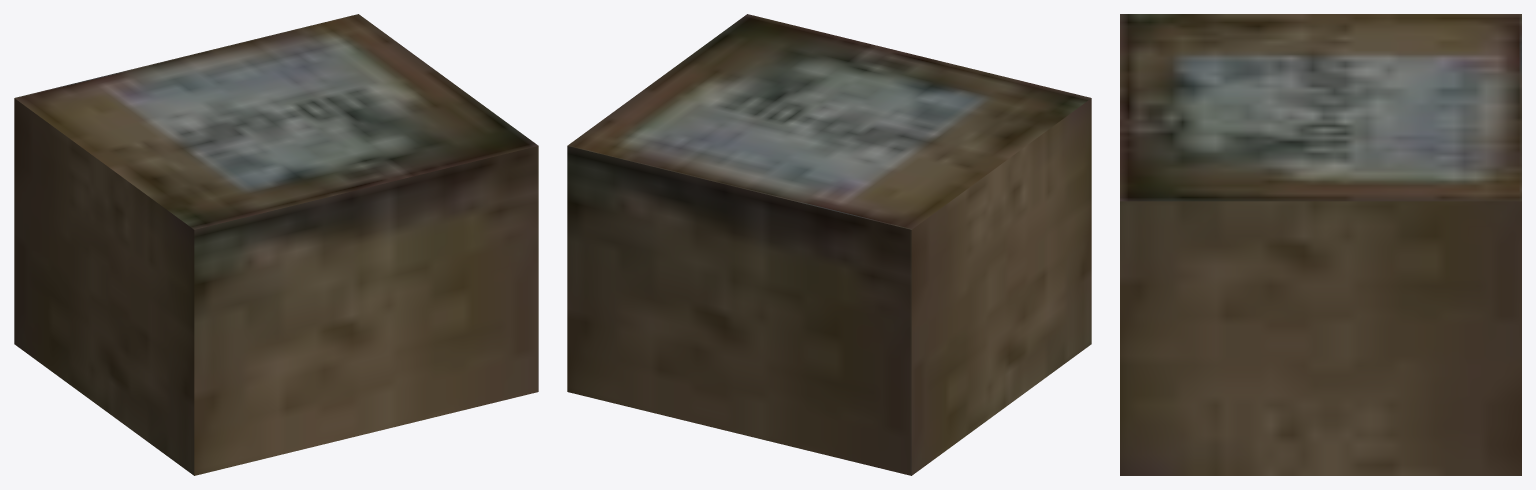
Rendered from cardboard_box004a.glb.
The picture shows the model from 3 angles, left to right: view 1: azimuth 30°, elevation 25°; view 2: azimuth 150°, elevation 25°; view 3: azimuth 270°, elevation 25°; orthographic projection. The views are drawn at different scales.
Visible parts, largest first — view 1: 0_Cardboard_boxes001a; view 2: 0_Cardboard_boxes001a; view 3: 0_Cardboard_boxes001a.
Part boxes in pixels (bbox=[...]): 0_Cardboard_boxes001a: bbox=[14, 14, 538, 475]; 0_Cardboard_boxes001a: bbox=[567, 14, 1091, 475]; 0_Cardboard_boxes001a: bbox=[1120, 14, 1521, 475].
Size of the model in its own units: 0.3008 by 0.2054 by 0.2725.
Materials: 1 (1 with a texture image).
